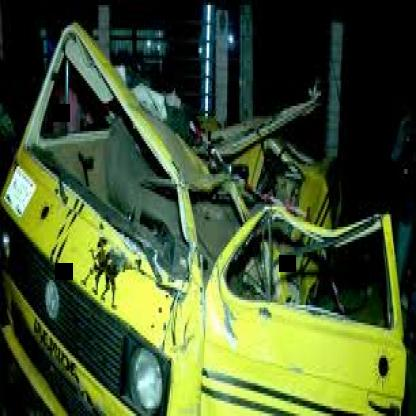accident: (4, 16, 410, 411)
